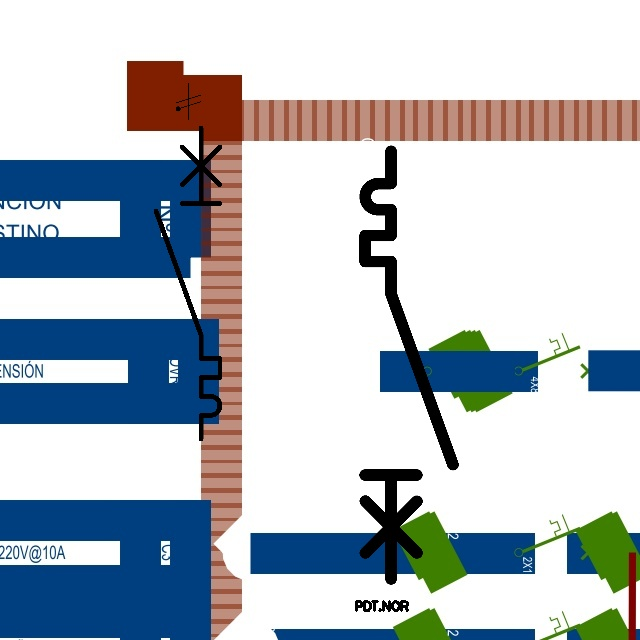interruptor_termomagnetico: (354, 140, 464, 590), (148, 120, 228, 447)
